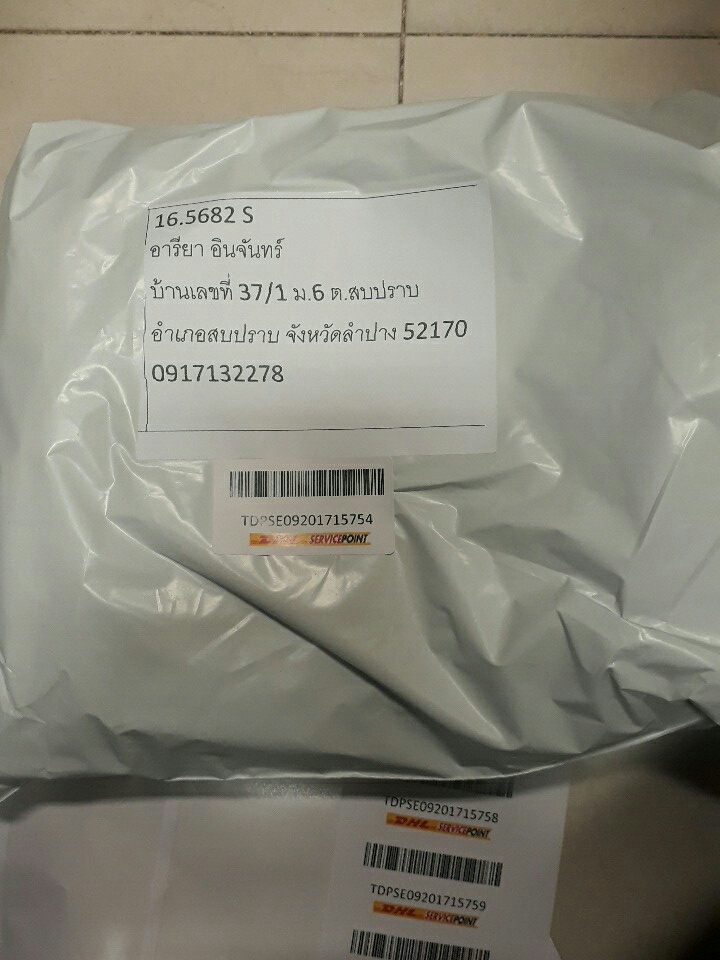ba: (201, 452, 410, 564)
txt: (148, 204, 482, 398)
